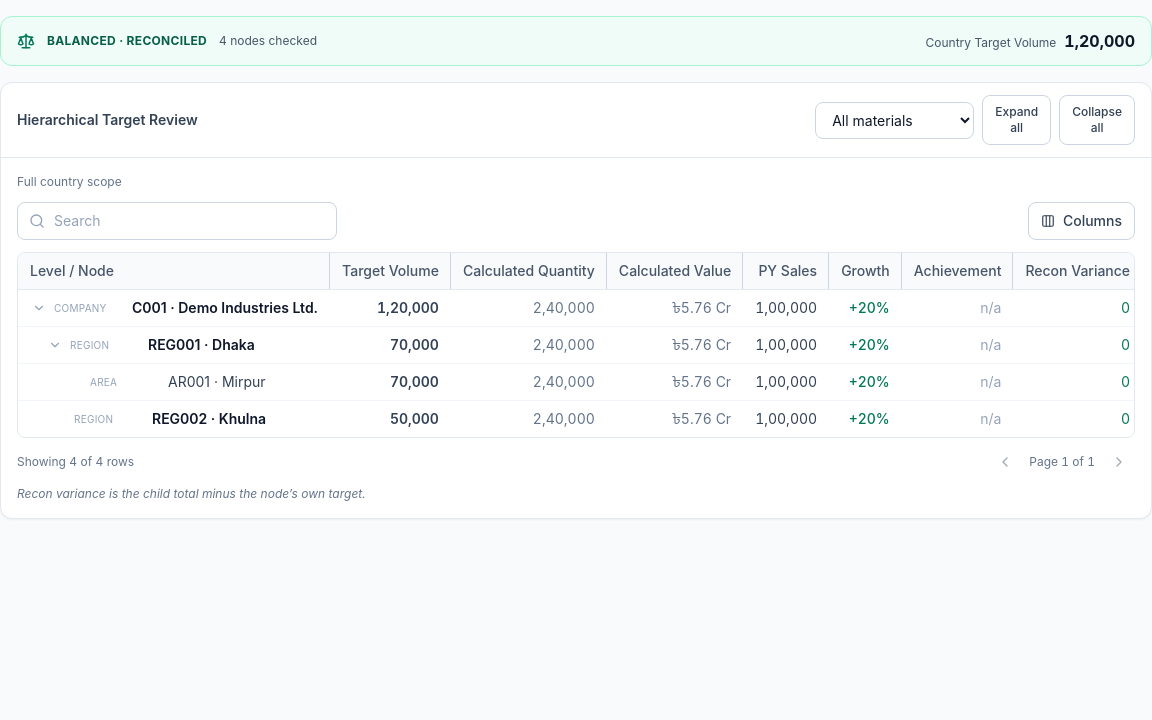
Test: ReviewTree › expand all and collapse all reach every node
Step 1. Click the button "Collapse all" → click(1097, 120), box 1059,95 -> 1135,145
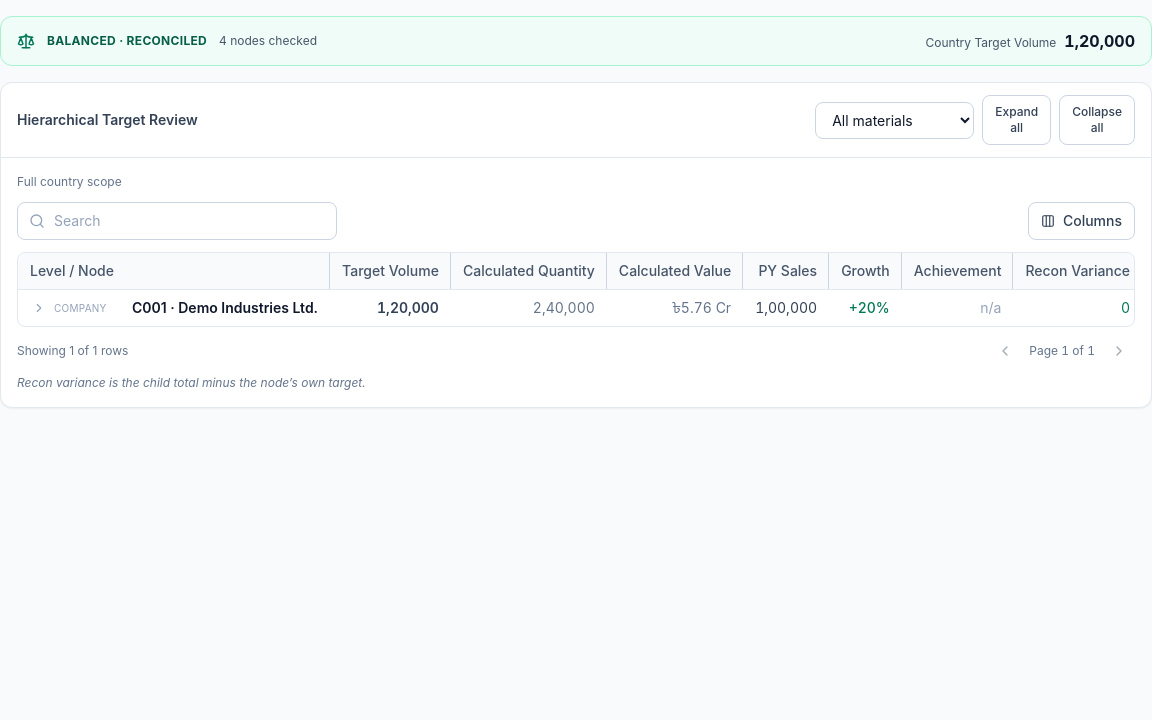
Expected: the text "REG001" is gone
Step 2. Click the button "Expand all" → click(1017, 120), box 982,95 -> 1051,145
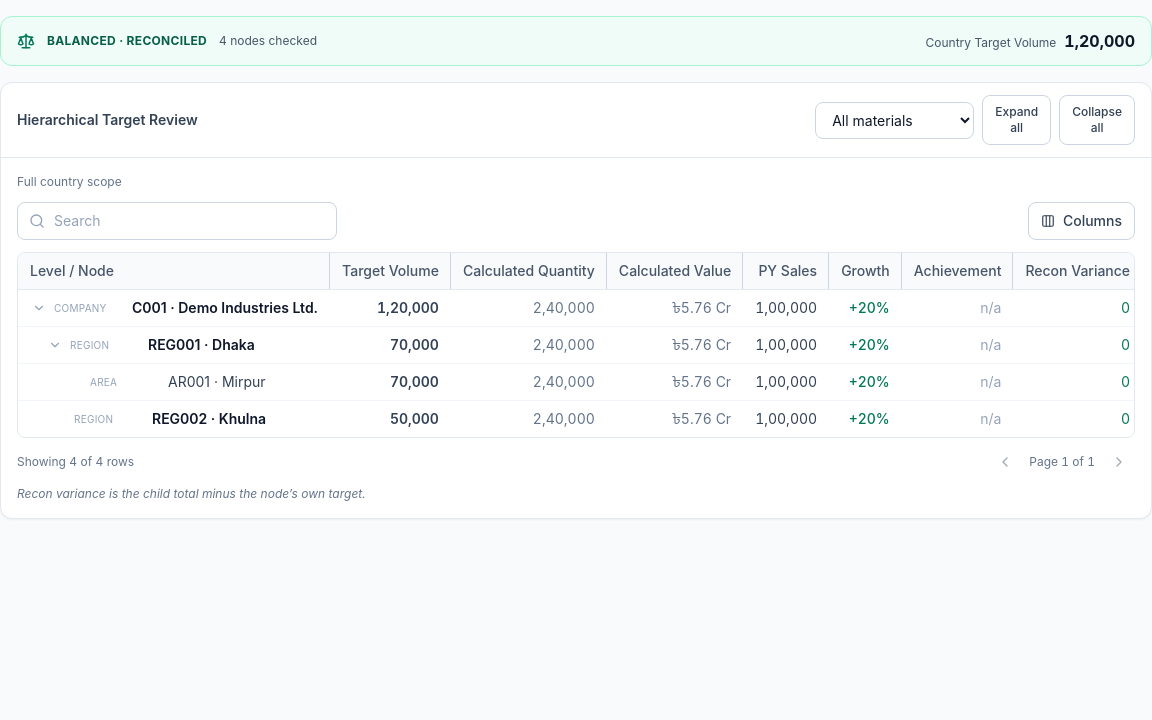
Expected: the text "AR001 · Mirpur" is shown, 168,372 -> 266,392
